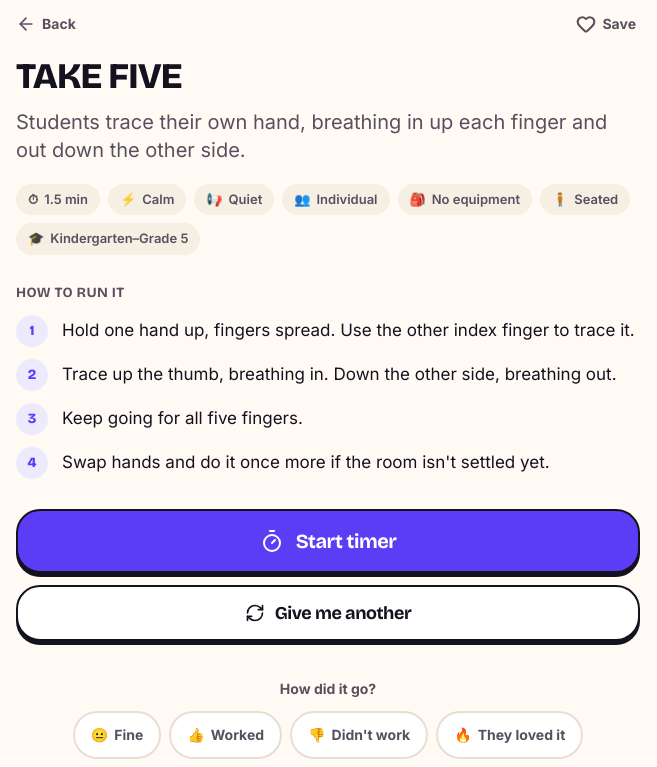
Test: ActivityScreen feedback › collapses to just the acknowledgement once a rating is picked
The image size is (657, 767).
Step 1. Click the button "🔥 They loved it" → (510, 735), box [436,711,583,759]
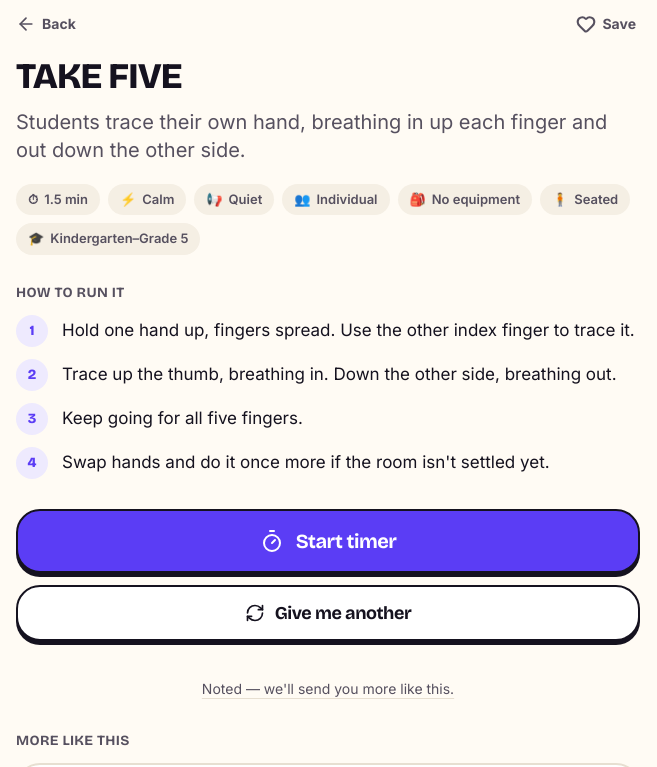
Expected: the button "Worked" is gone
Expected: the button "Didn.t work" is gone
Expected: the button "Noted — we'll send you more like this." is shown, [202,679,454,699]
